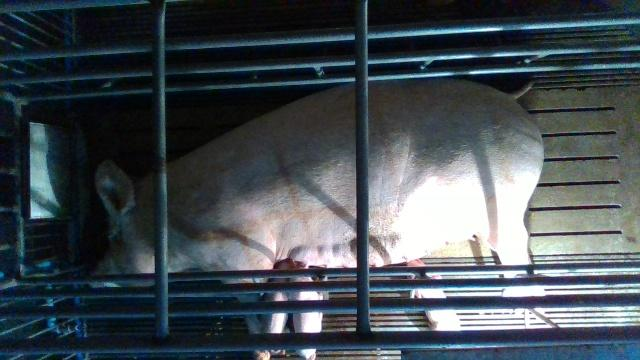piglet: (405, 259, 460, 331), (286, 265, 323, 358), (264, 261, 295, 353)
sow-sleep-lactate: (87, 76, 544, 332)
